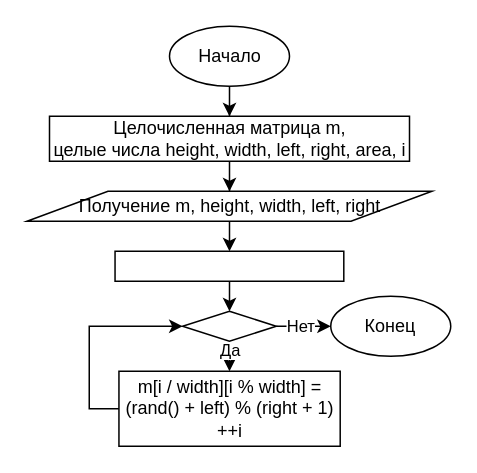
This 477x473 diagram has some shape labels left out. Here are the shapes that lost their labels. From the top down, the centre of each, then its label:
At point 229,265: "i = 0, area = height * width".
At point 228,325: "i < area".
